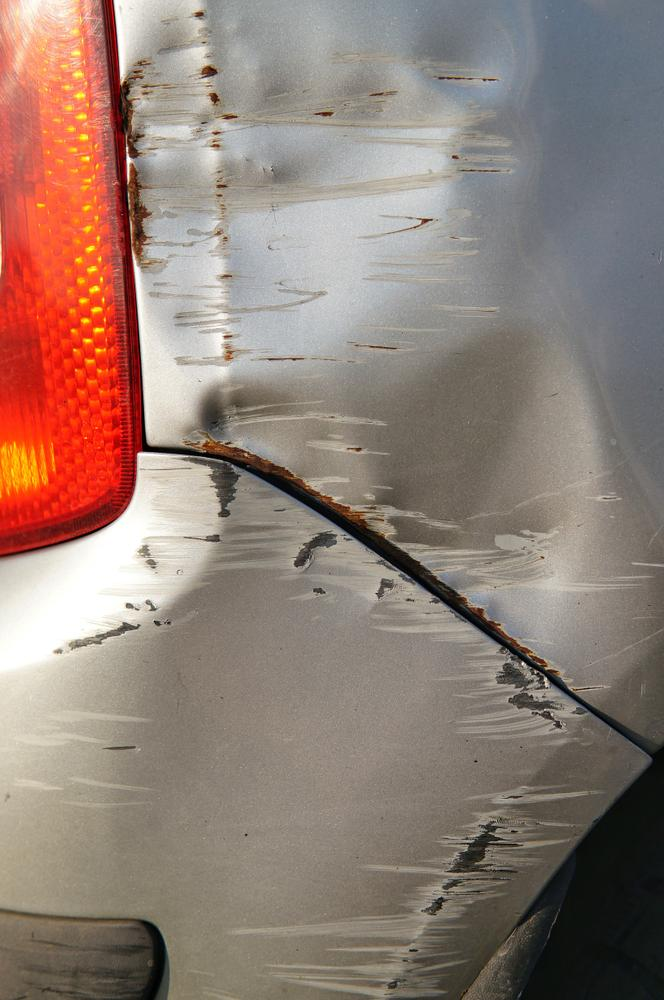dent: (116, 0, 625, 657)
scratch: (0, 454, 625, 1000)
